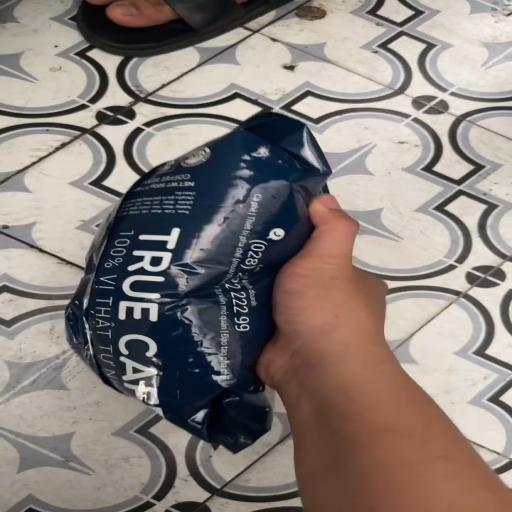cafe_hat: (65, 114, 331, 453)
